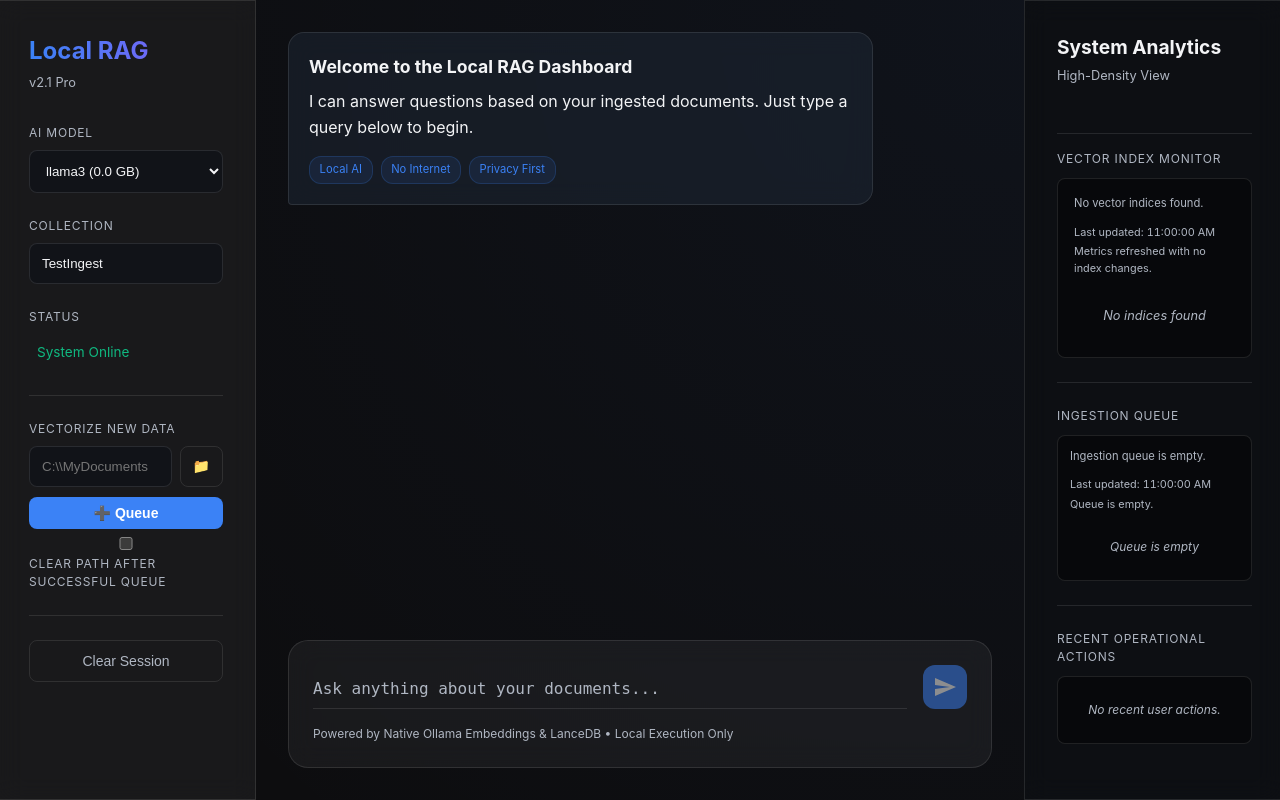
Test: App › cancels and clears the session when clear is pressed during generation
In the text box named "query message": (610, 689) [313,669,907,709], type "Clear while running"
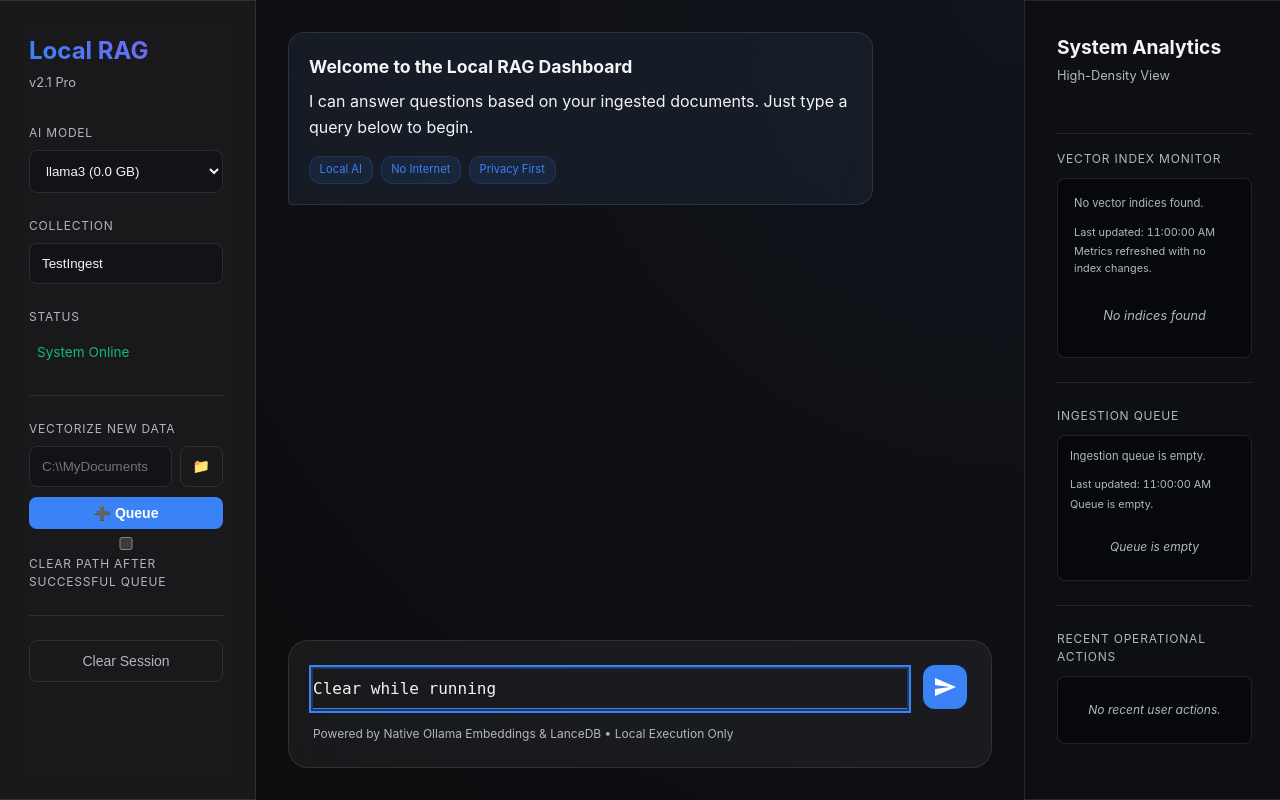
Click the button named "send message": (945, 687) [923,665,967,709]
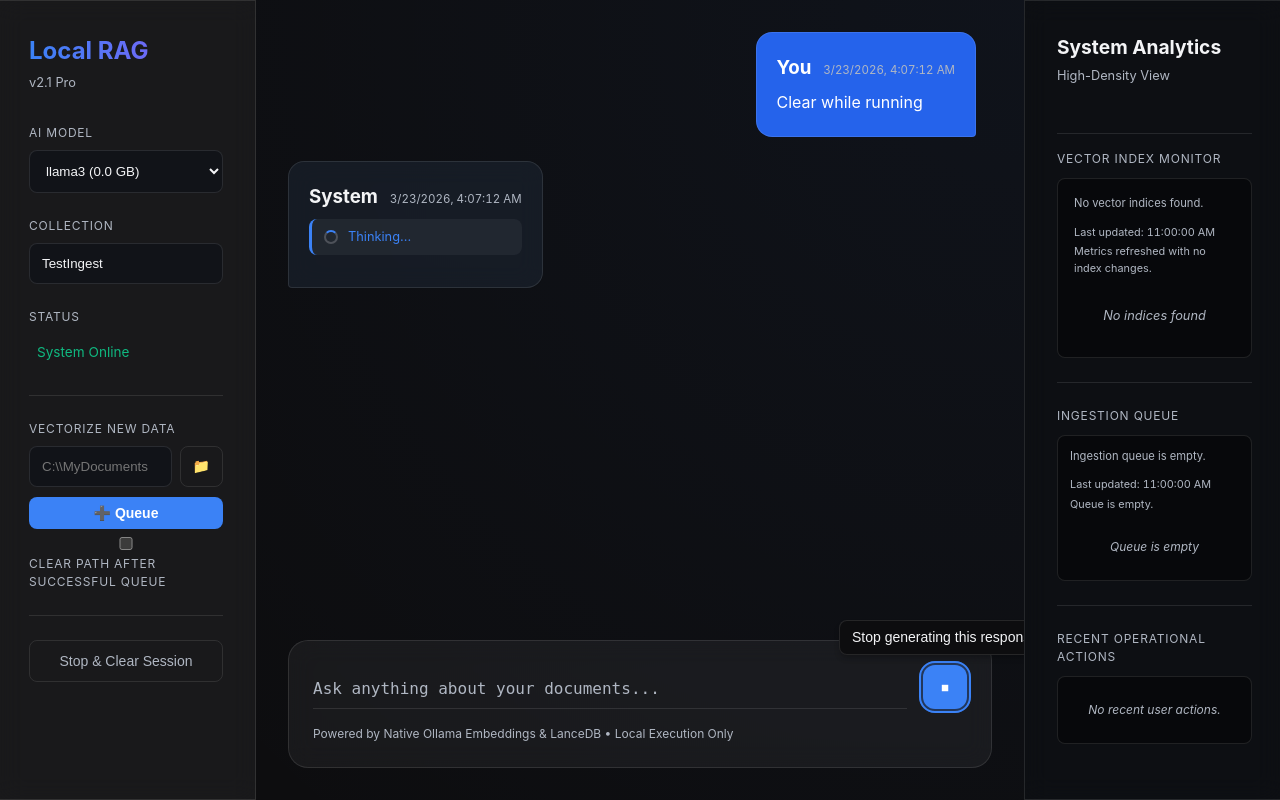
Click the button "Stop & Clear Session": (126, 661) [29,640,223,682]
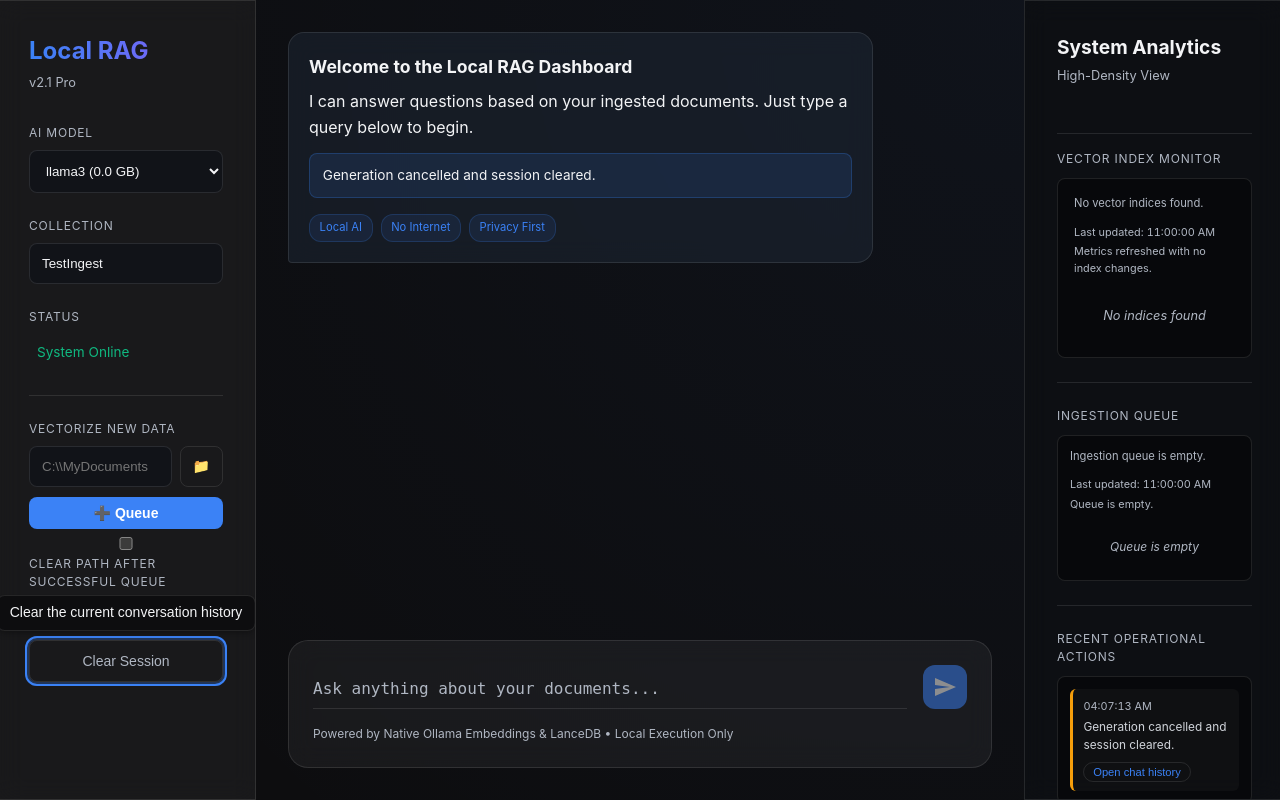
Expected: the text "Generation cancelled and session cleared." is shown, [309,153,852,198]
Expected: the text "Clear while running" is gone
